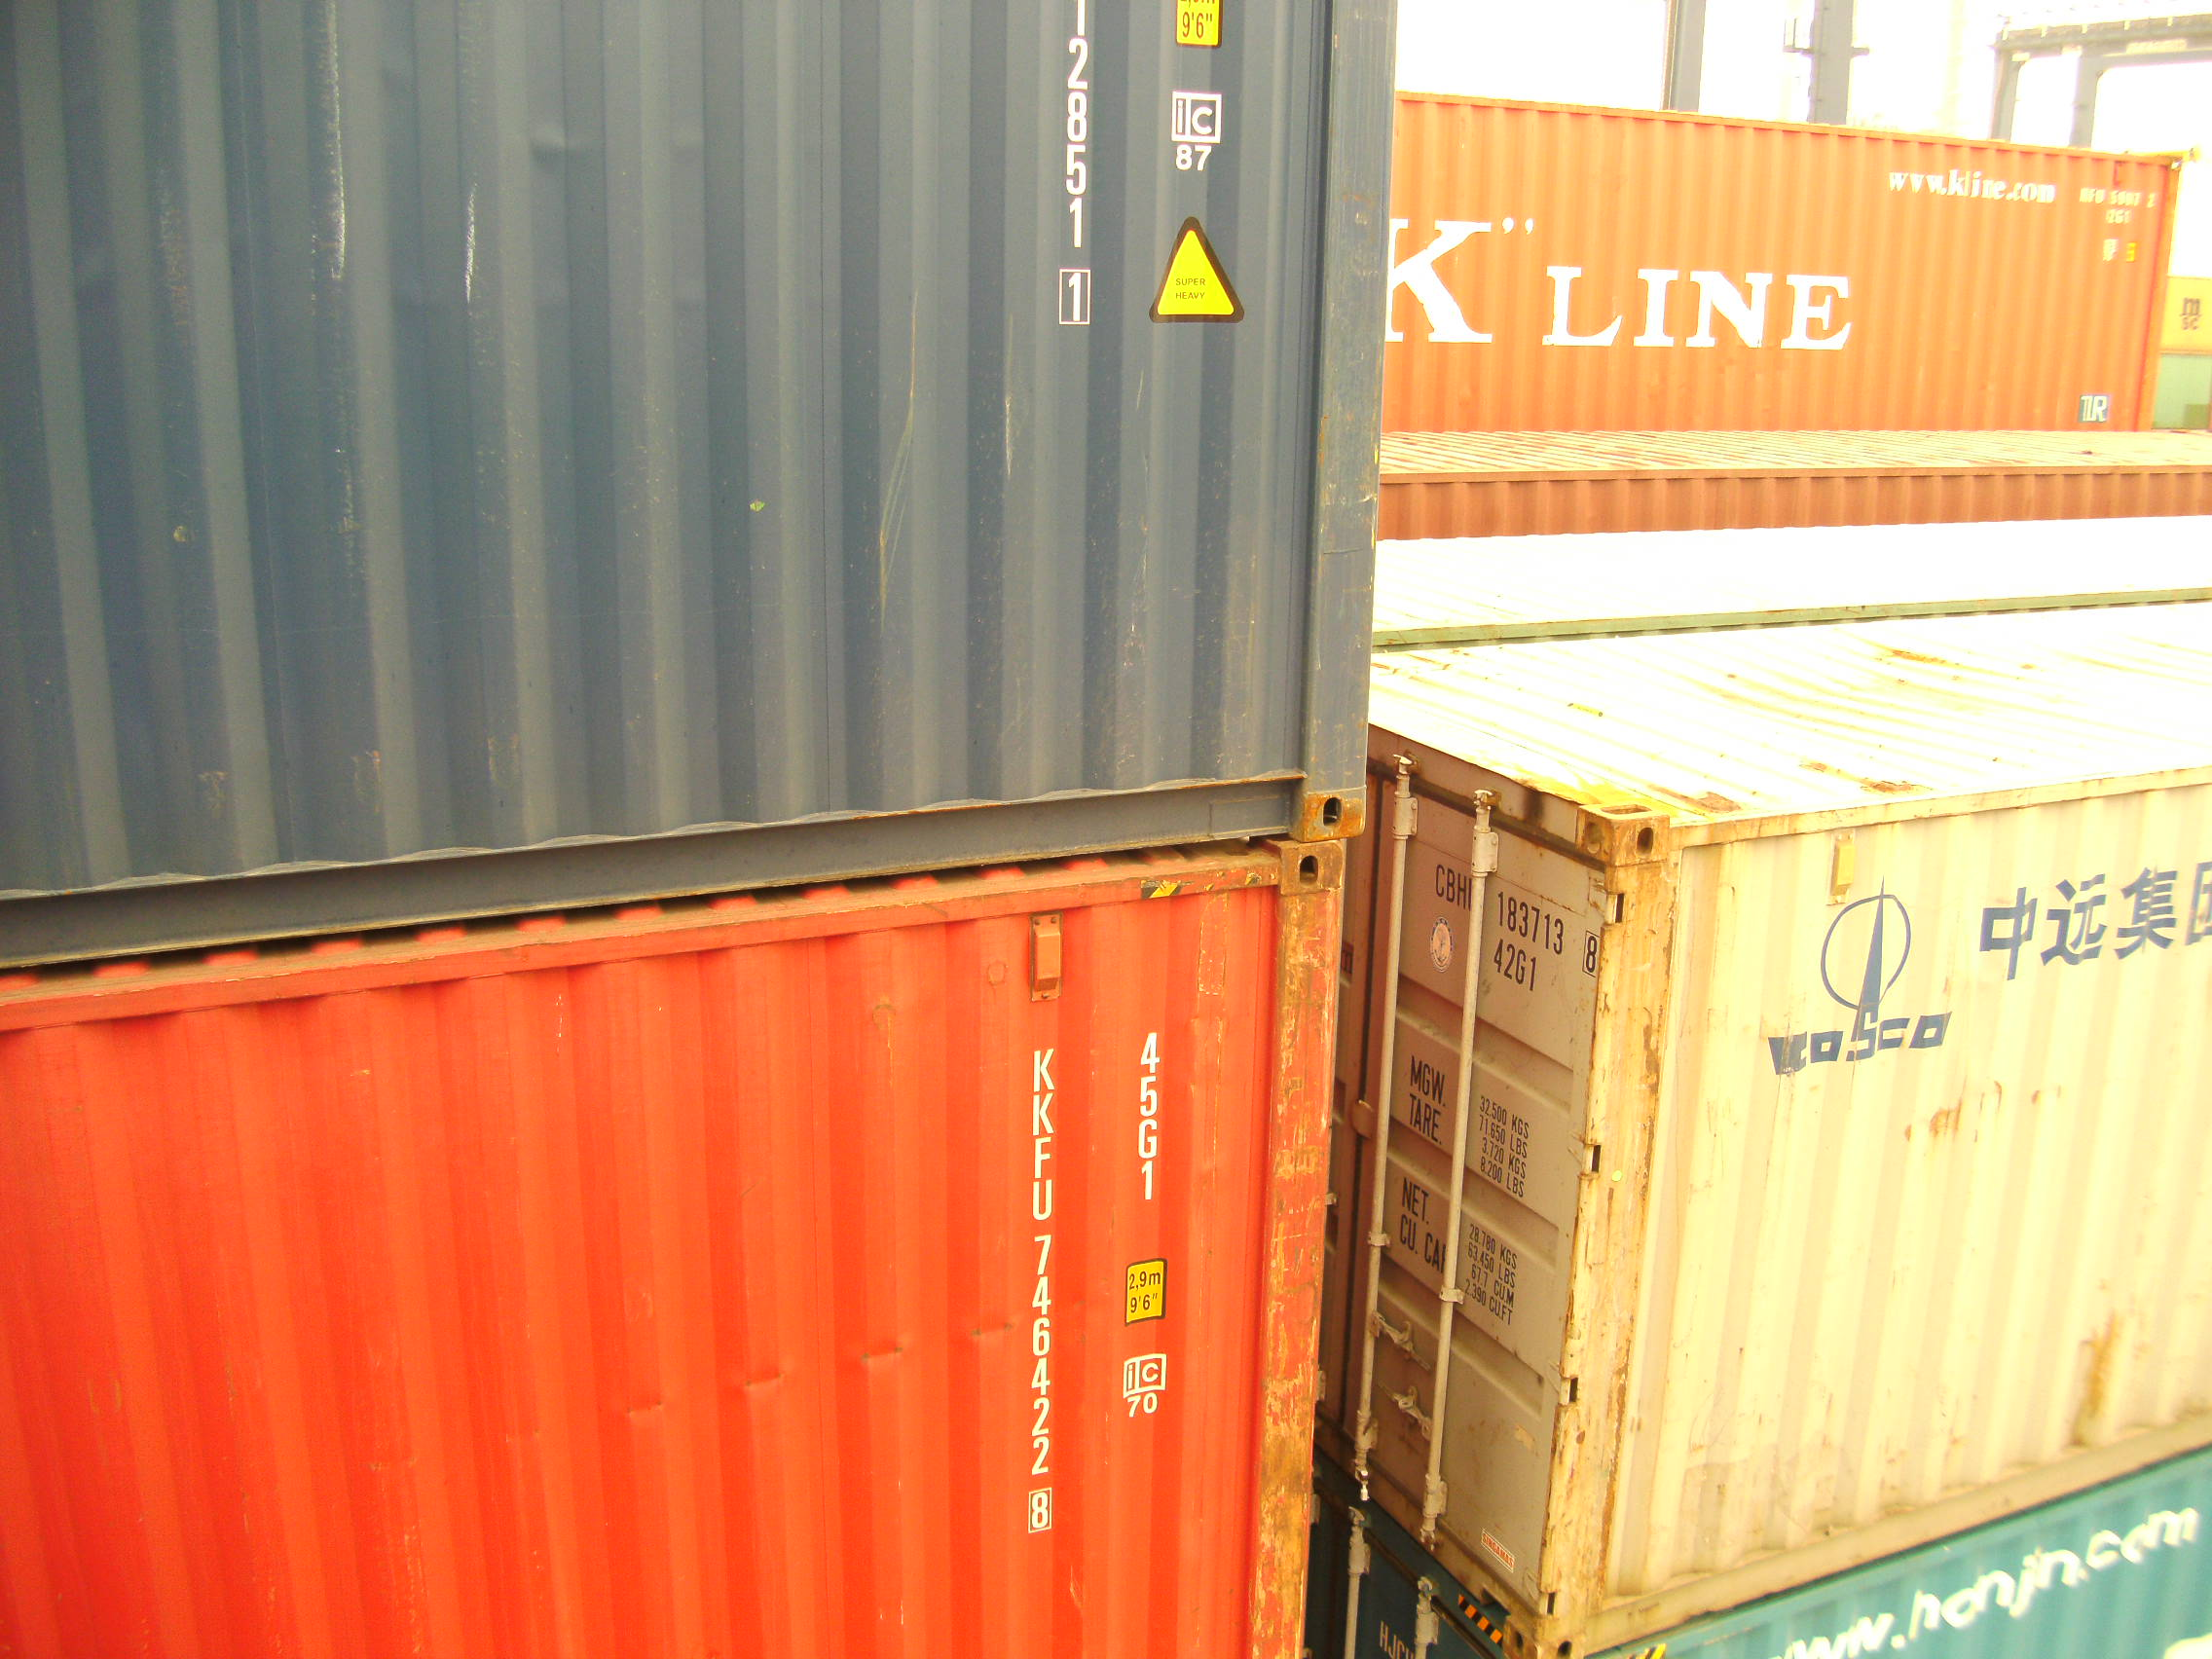container_no_door: (2, 2, 1249, 829), (33, 931, 1249, 1659), (1590, 789, 2186, 1645)
